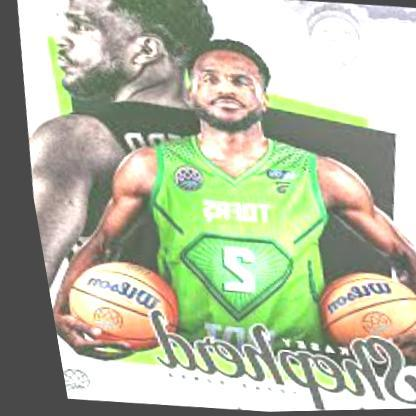basketball: (46, 255, 177, 359), (299, 271, 416, 363)
